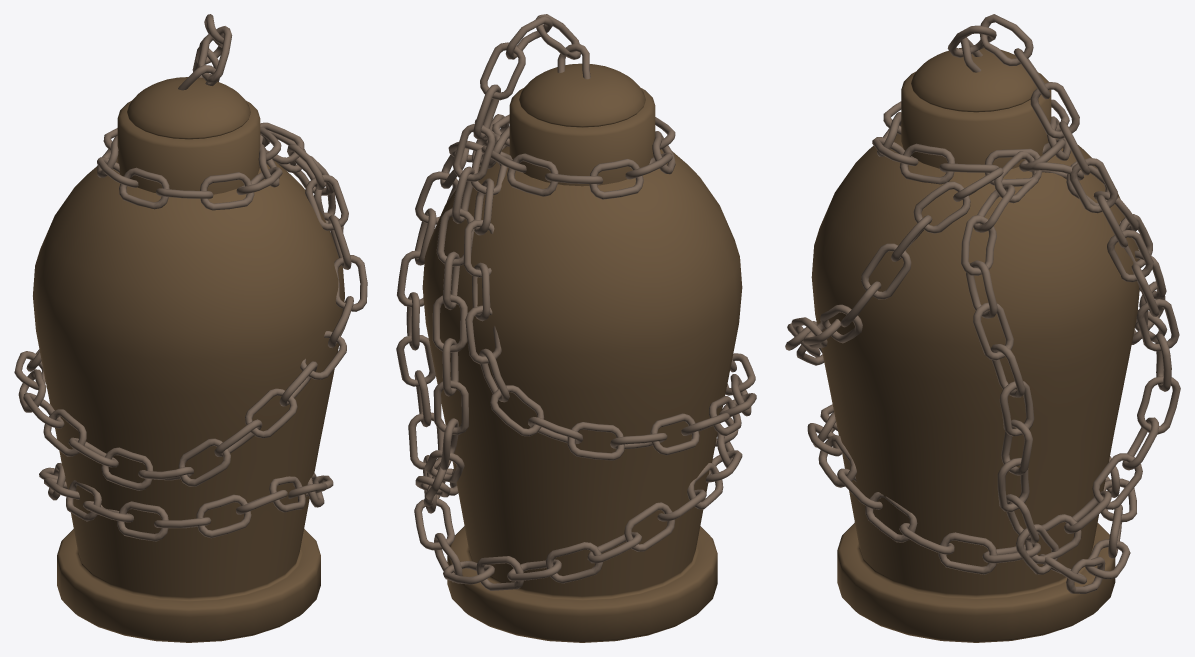
Rendered from Urn_01.fbx.
3 renders of one model, left to right at view 1: azimuth 30°, elevation 25°; view 2: azimuth 150°, elevation 25°; view 3: azimuth 270°, elevation 25°, orthographic. The views are drawn at different scales.
Parts seen in each view (by area): view 1: Urn_01; view 2: Urn_01; view 3: Urn_01.
Boxes of the visible parts, x1,y1,x2,y2 form: Urn_01: [14, 14, 367, 642]; Urn_01: [396, 14, 756, 642]; Urn_01: [785, 14, 1180, 642].
Size of the model in its own units: 34.15 by 59.18 by 36.18.
